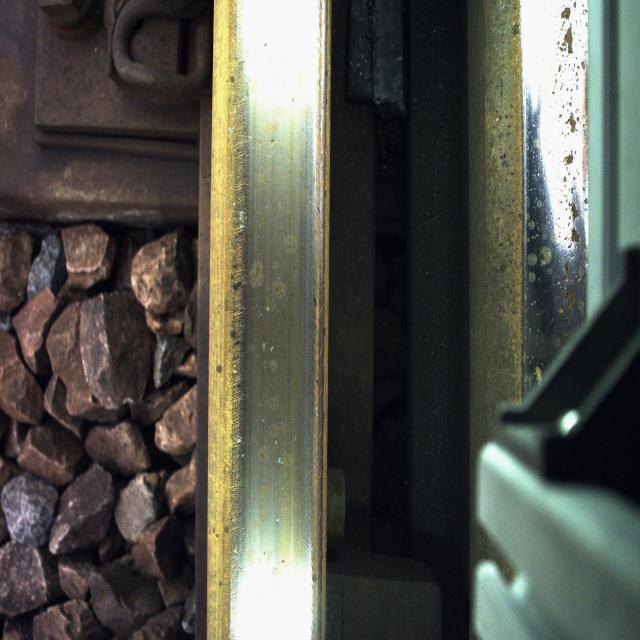scar: (220, 39, 302, 550), (526, 4, 592, 331)
